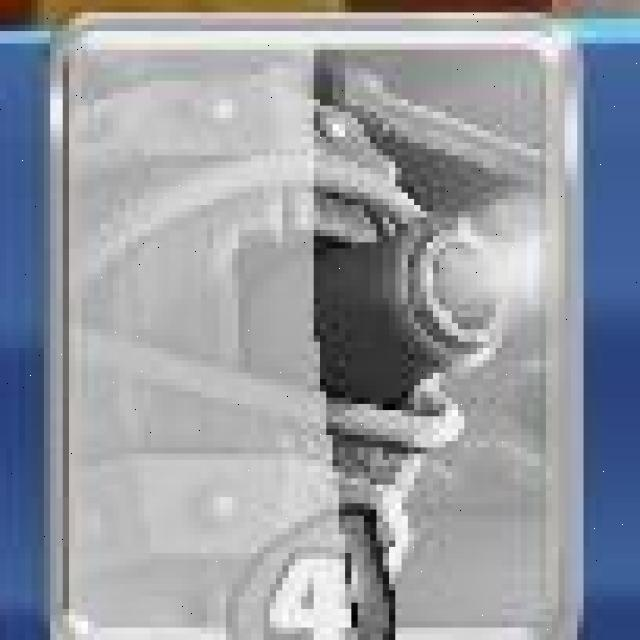Flying_Machine: (51, 10, 589, 637)
